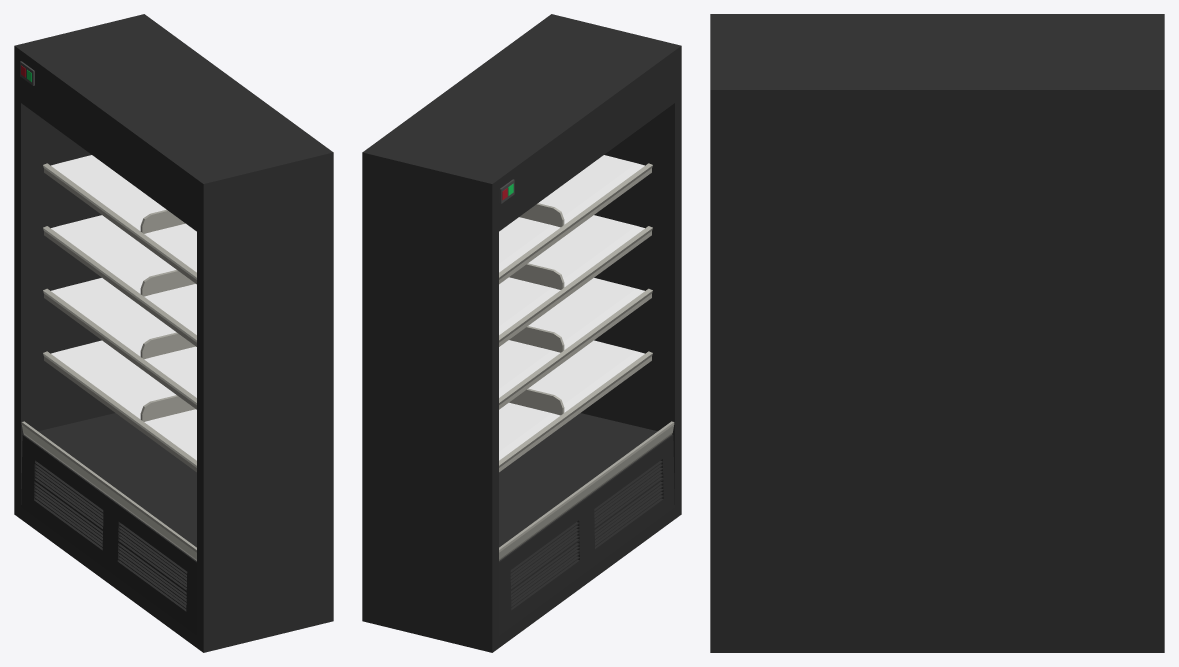
The model's file is ss-cooler.lod0.glb.
3 views of the same model, side by side, from view 1: azimuth 30°, elevation 25°; view 2: azimuth 150°, elevation 25°; view 3: azimuth 270°, elevation 25° (orthographic). The views are drawn at different scales.
Parts seen in each view (by area): view 1: Fridge_Palette_0; view 2: Fridge_Palette_0; view 3: Fridge_Palette_0.
Boxes of the visible parts, x1,y1,x2,y2 form: Fridge_Palette_0: [14, 14, 333, 652]; Fridge_Palette_0: [362, 14, 681, 652]; Fridge_Palette_0: [710, 14, 1164, 652].
Bounding box in the file's own units: 0.6443 × 2.19 × 1.6.
Materials: 1 (1 with a texture image).
